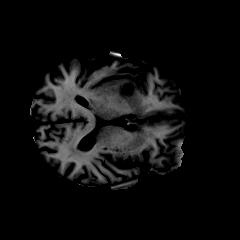glioma: (87, 64, 142, 108)
